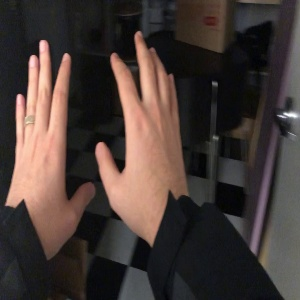hand: (9, 39, 95, 240), (96, 32, 185, 197)
